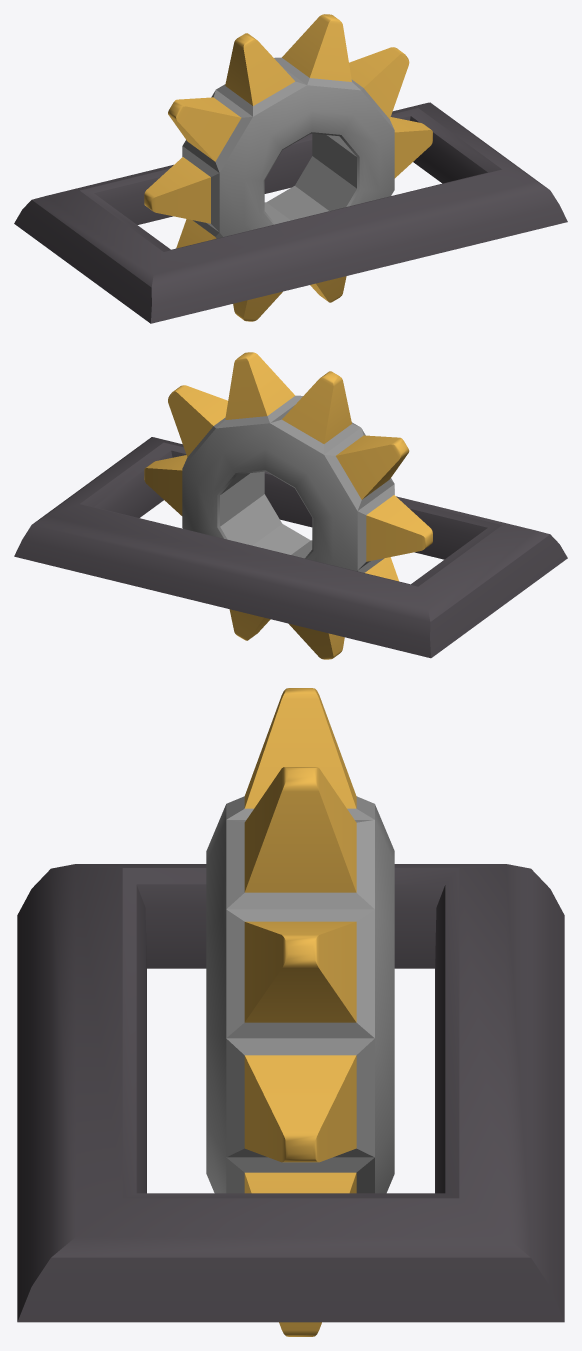
File: Obstacle2.fbx
3 views of the same model, one above another, from view 1: azimuth 30°, elevation 25°; view 2: azimuth 150°, elevation 25°; view 3: azimuth 270°, elevation 25° (orthographic). The views are drawn at different scales.
Visible parts, largest first — view 1: Obstacle2.001; view 2: Obstacle2.001; view 3: Obstacle2.001.
Part boxes in pixels (x1=…): Obstacle2.001: x1=14, y1=14, x2=567, y2=323; Obstacle2.001: x1=14, y1=352, x2=567, y2=659; Obstacle2.001: x1=17, y1=688, x2=564, y2=1336.
Size of the model in its own units: 2.19 by 1.42 by 1.24.
